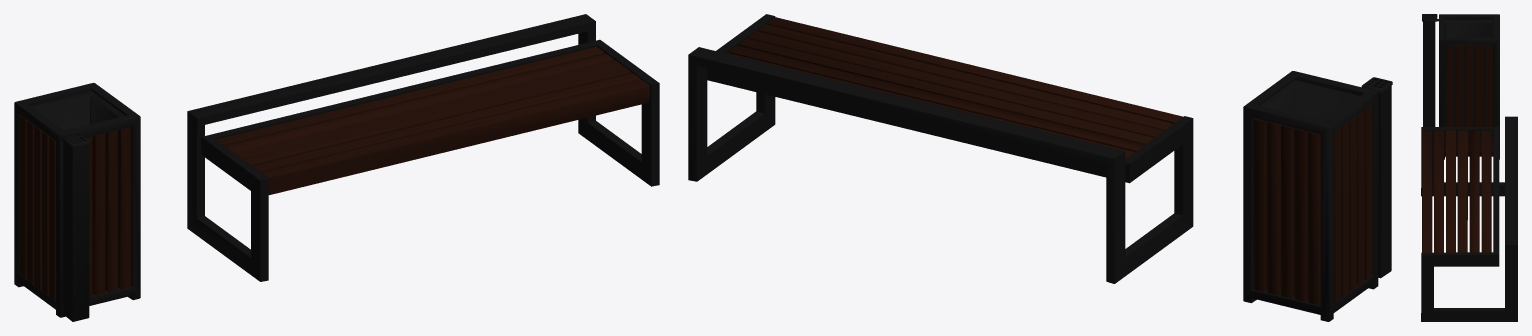
3 views of the same model, side by side, from view 1: azimuth 30°, elevation 25°; view 2: azimuth 150°, elevation 25°; view 3: azimuth 270°, elevation 25° (orthographic). The views are drawn at different scales.
Visible parts, largest first — view 1: vm_v3_001_bench, vm_v3_002_litter_bin; view 2: vm_v3_001_bench, vm_v3_002_litter_bin; view 3: vm_v3_001_bench, vm_v3_002_litter_bin.
Boxes of the visible parts, x1,y1,x2,y2 form: vm_v3_001_bench: [187, 14, 659, 281]; vm_v3_002_litter_bin: [14, 83, 140, 321]; vm_v3_001_bench: [688, 14, 1193, 283]; vm_v3_002_litter_bin: [1243, 71, 1392, 321]; vm_v3_001_bench: [1421, 116, 1517, 321]; vm_v3_002_litter_bin: [1422, 14, 1499, 159].
Size of the model in its own units: 276 by 82.01 by 59.96.
